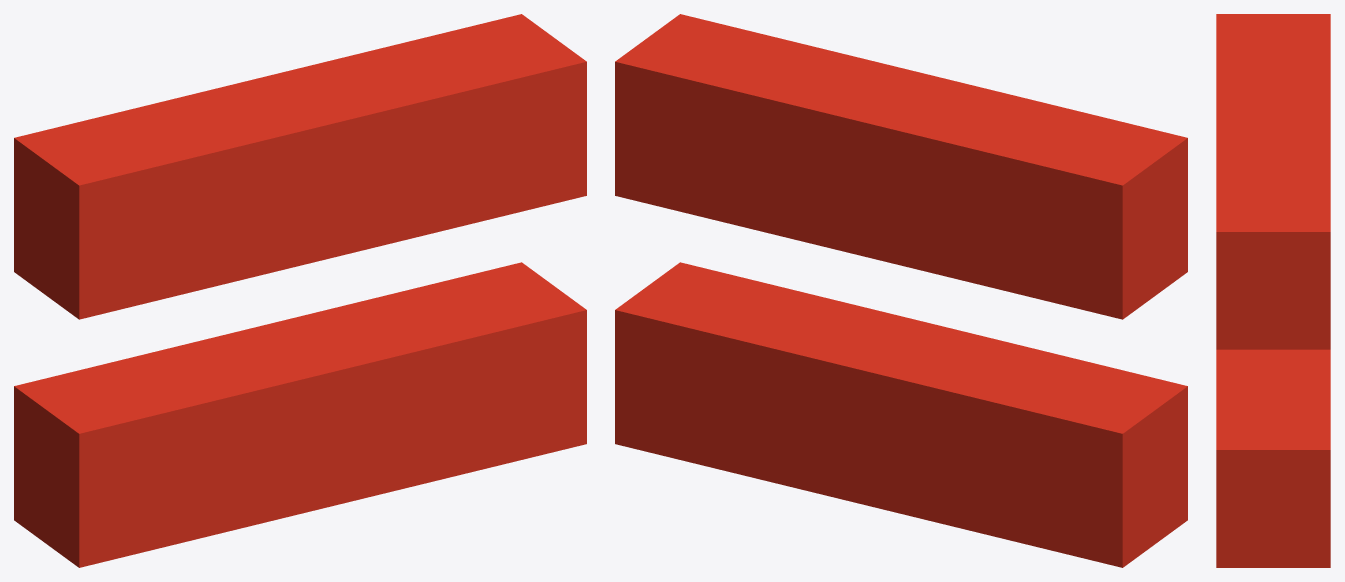
The model's file is Icon_Symbol_Equals.fbx.
3 views of the same model, side by side, from view 1: azimuth 30°, elevation 25°; view 2: azimuth 150°, elevation 25°; view 3: azimuth 270°, elevation 25° (orthographic). The views are drawn at different scales.
Parts seen in each view (by area): view 1: Icon_Symbol_Equals; view 2: Icon_Symbol_Equals; view 3: Icon_Symbol_Equals.
Part boxes in pixels (box(x1,y1,x2,y2)): Icon_Symbol_Equals: box(14, 14, 586, 567); Icon_Symbol_Equals: box(615, 14, 1187, 567); Icon_Symbol_Equals: box(1216, 14, 1330, 567).
Bounding box in the file's own units: 54.26 × 39.05 × 12.06.
